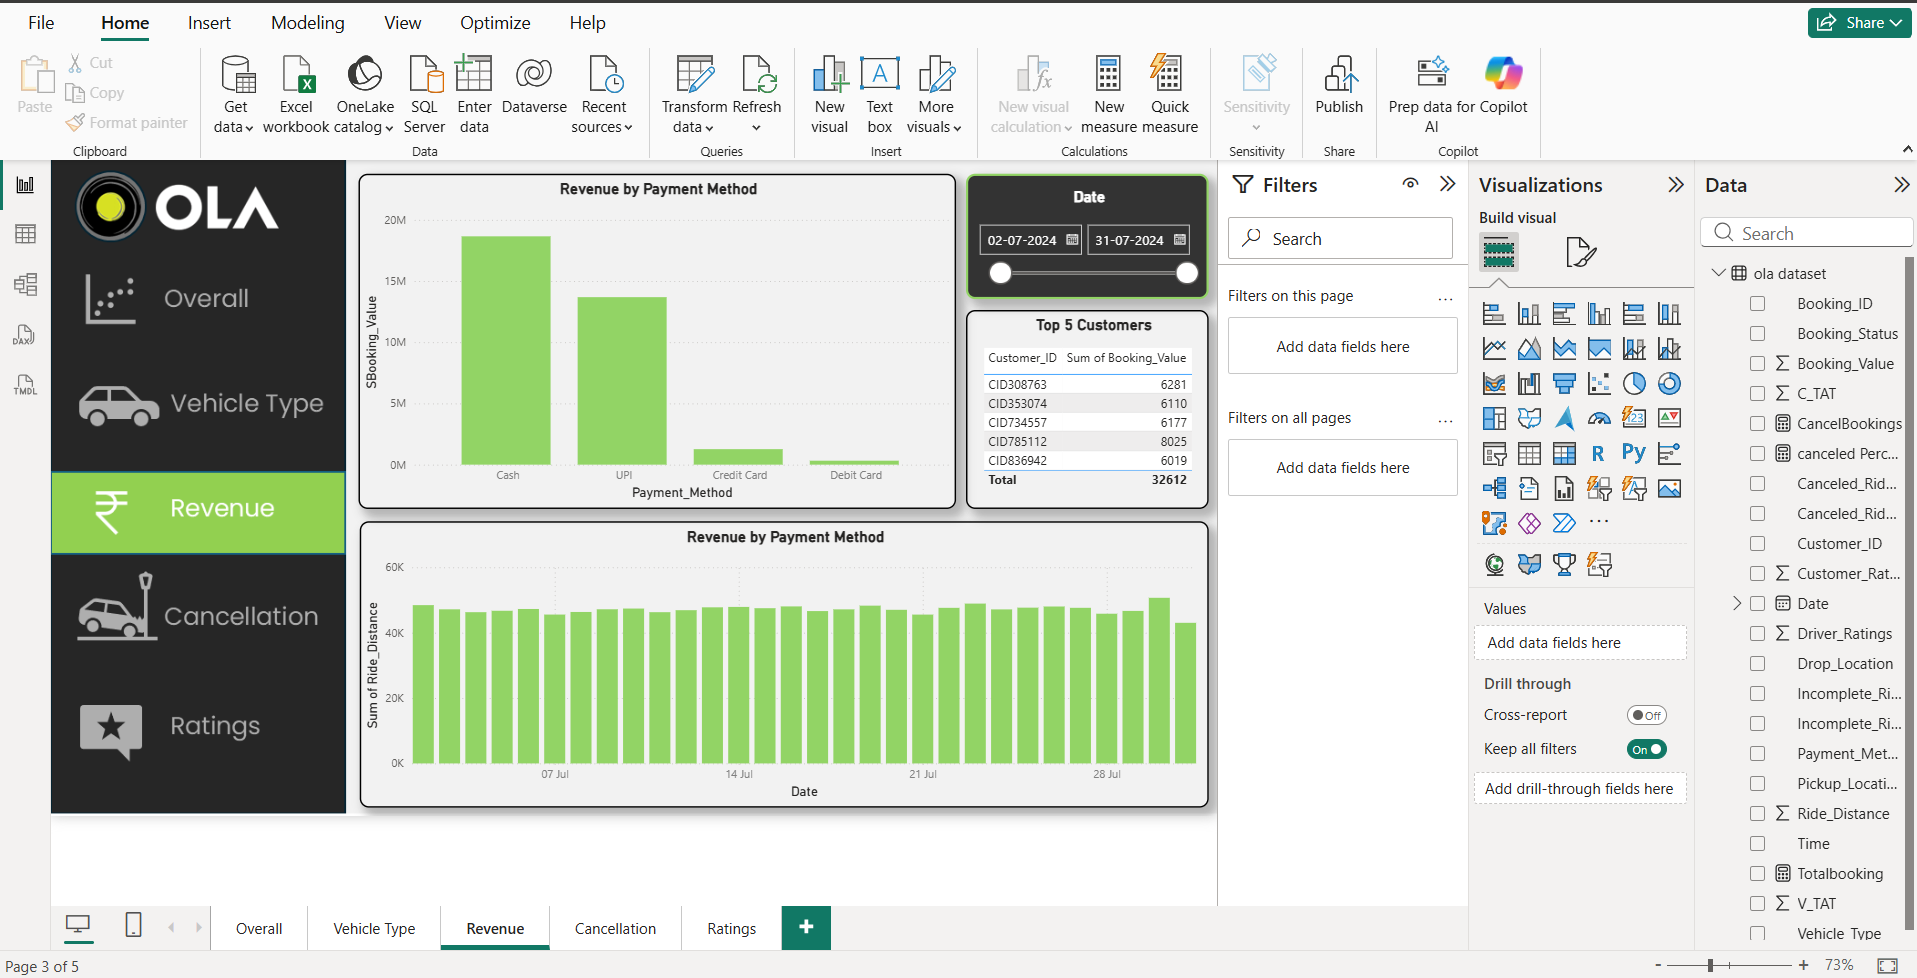

The page's visual inventory and layout, read from the dashboard file:
{"tool":"powerbi","page":{"name":"Revenue","canvas":[1280,720],"ordinal":2},"visuals":[{"type":"actionButton","box":[0,222,325.7,91.7],"z":0},{"type":"actionButton","box":[0,446.4,325.7,85.7],"z":1},{"type":"actionButton","box":[0,447.6,325.7,85.7],"z":2},{"type":"actionButton","box":[0,580.3,325.7,85.7],"z":3},{"type":"actionButton","box":[0,109.8,325.7,85.7],"z":4},{"type":"columnChart","title":"Revenue by Payment Method","fields":{"Category":["ola dataset.Payment_Method"],"Y":["Sum(ola dataset.Booking_Value)"]},"box":[337.6,15.1,655.9,367.8],"z":5},{"type":"columnChart","title":"Revenue by Payment Method","fields":{"Category":["ola dataset.Date"],"Y":["Sum(ola dataset.Ride_Distance)"]},"box":[338.9,396.6,931.7,314.2],"z":6},{"type":"slicer","title":"Date","fields":{"Values":["ola dataset.Date"]},"box":[1004.5,15.1,266.2,137.2],"z":7},{"type":"tableEx","title":"Top 5 Customers","fields":{"Values":["ola dataset.Customer_ID","Sum(ola dataset.Booking_Value)"]},"box":[1004.5,164.7,266.2,218.2],"z":8}]}

Visuals, with their boxes on the page's 1280x720 design canvas (x1, y1, x2, y2). These are canvas units, not pixel positions in the 1917x978 screenshot, which may show the page scaled, cropped or inside an application window:
actionButton: detection(0, 222, 326, 314)
actionButton: detection(0, 446, 326, 532)
actionButton: detection(0, 448, 326, 533)
actionButton: detection(0, 580, 326, 666)
actionButton: detection(0, 110, 326, 196)
"Revenue by Payment Method" columnChart: detection(338, 15, 994, 383)
"Revenue by Payment Method" columnChart: detection(339, 397, 1271, 711)
"Date" slicer: detection(1004, 15, 1271, 152)
"Top 5 Customers" tableEx: detection(1004, 165, 1271, 383)
